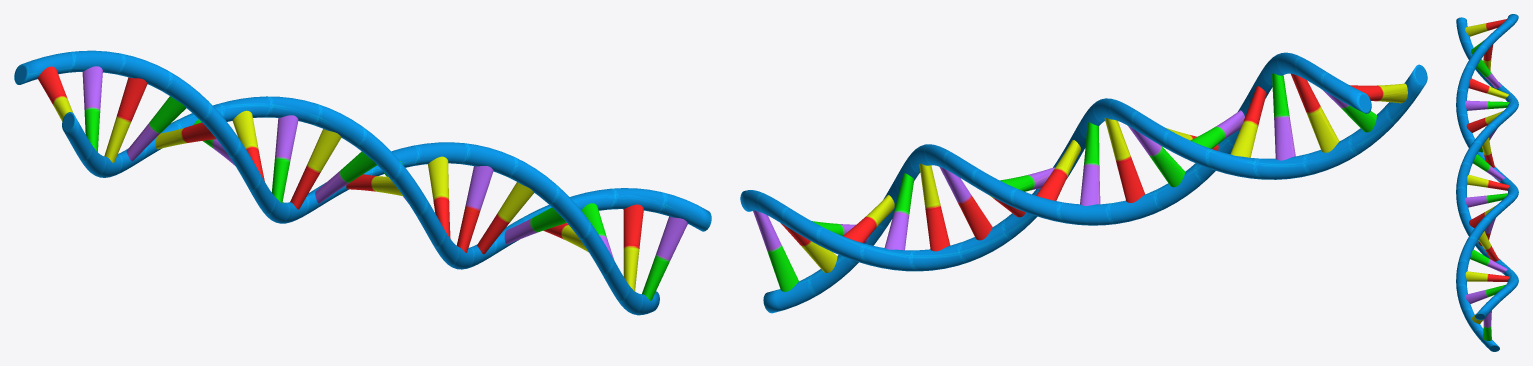
Rendered from dna2.glb.
The picture shows the model from 3 angles, left to right: view 1: azimuth 30°, elevation 25°; view 2: azimuth 150°, elevation 25°; view 3: azimuth 270°, elevation 25°; orthographic projection. The views are drawn at different scales.
Visible parts, largest first — view 1: DNA; view 2: DNA; view 3: DNA.
Boxes of the visible parts, left/top/right/bottom form: DNA: left=14, top=50, right=711, bottom=315; DNA: left=740, top=52, right=1427, bottom=313; DNA: left=1456, top=14, right=1518, bottom=351.
Size of the model in its own units: 3772 by 2103 by 619.
1 material, 1 textured.
